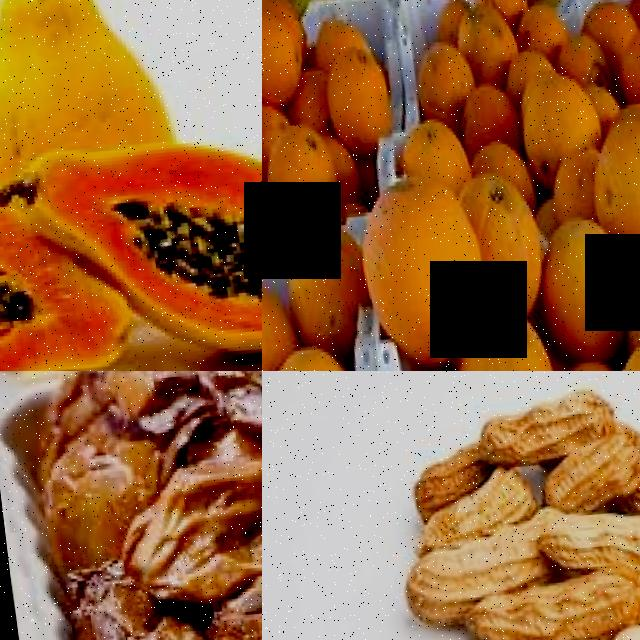orange: (343, 176, 471, 365), (525, 219, 622, 371), (457, 168, 536, 326), (271, 226, 358, 355), (583, 123, 640, 270), (511, 77, 593, 162), (262, 120, 333, 218), (317, 50, 387, 147), (407, 47, 462, 131), (262, 0, 300, 110), (609, 29, 640, 122)
pawpaw: (97, 134, 262, 371)
peanuts: (463, 575, 640, 640), (462, 388, 612, 448), (529, 512, 640, 579), (534, 445, 640, 515), (393, 545, 476, 634), (399, 442, 480, 499)
